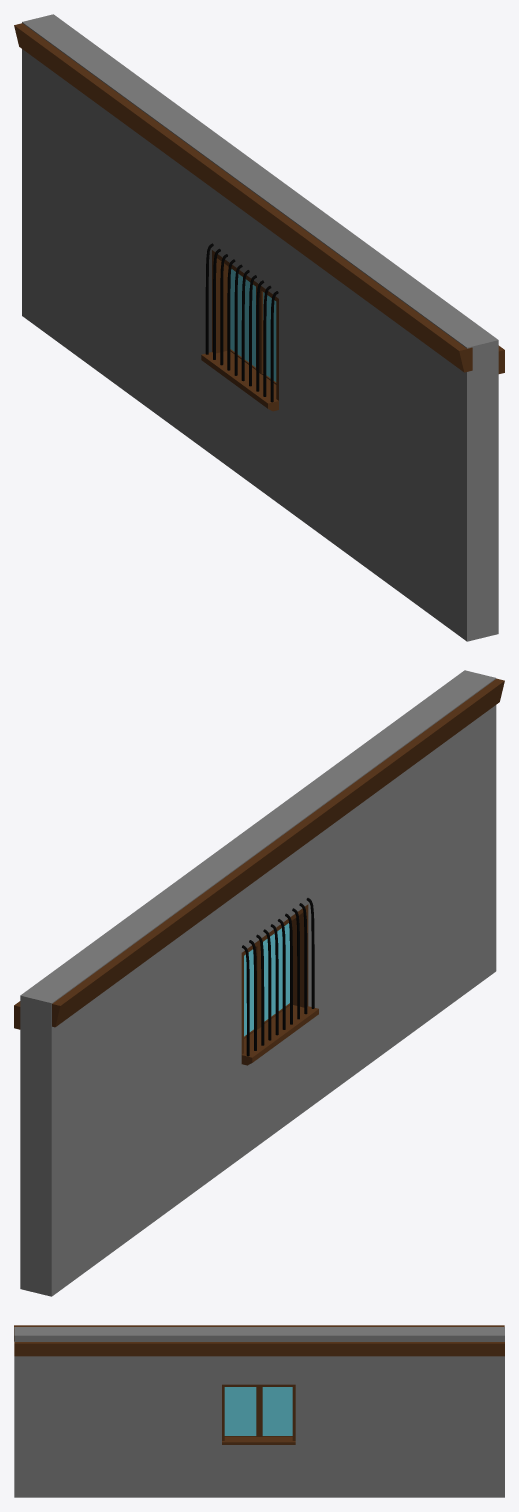
Rendered from WallWindow.fbx.
3 views of the same model, one above another, from view 1: azimuth 30°, elevation 25°; view 2: azimuth 150°, elevation 25°; view 3: azimuth 270°, elevation 25° (orthographic). The views are drawn at different scales.
Visible parts, largest first — view 1: WallBase.001; view 2: WallBase.001; view 3: WallBase.001.
Part boxes in pixels (left/top/right/bottom): WallBase.001: left=14, top=14, right=504, bottom=641; WallBase.001: left=14, top=670, right=504, bottom=1296; WallBase.001: left=14, top=1325, right=504, bottom=1497.
Size of the model in its own units: 1.44 by 8.33 by 22.89.
